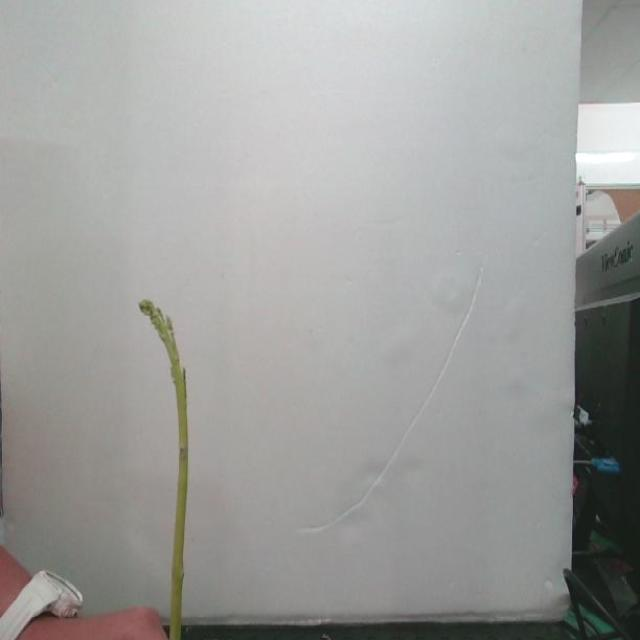aspargus: (138, 301, 190, 640)
